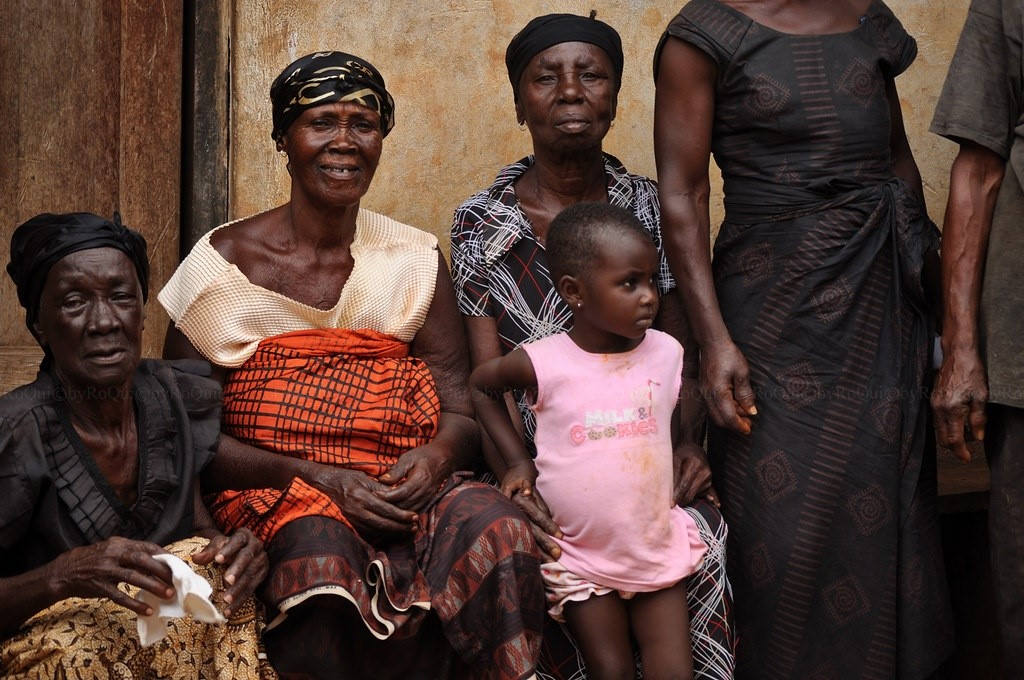face_no_mask: (25, 231, 154, 396), (507, 18, 637, 147), (545, 206, 656, 343), (292, 57, 388, 206)
